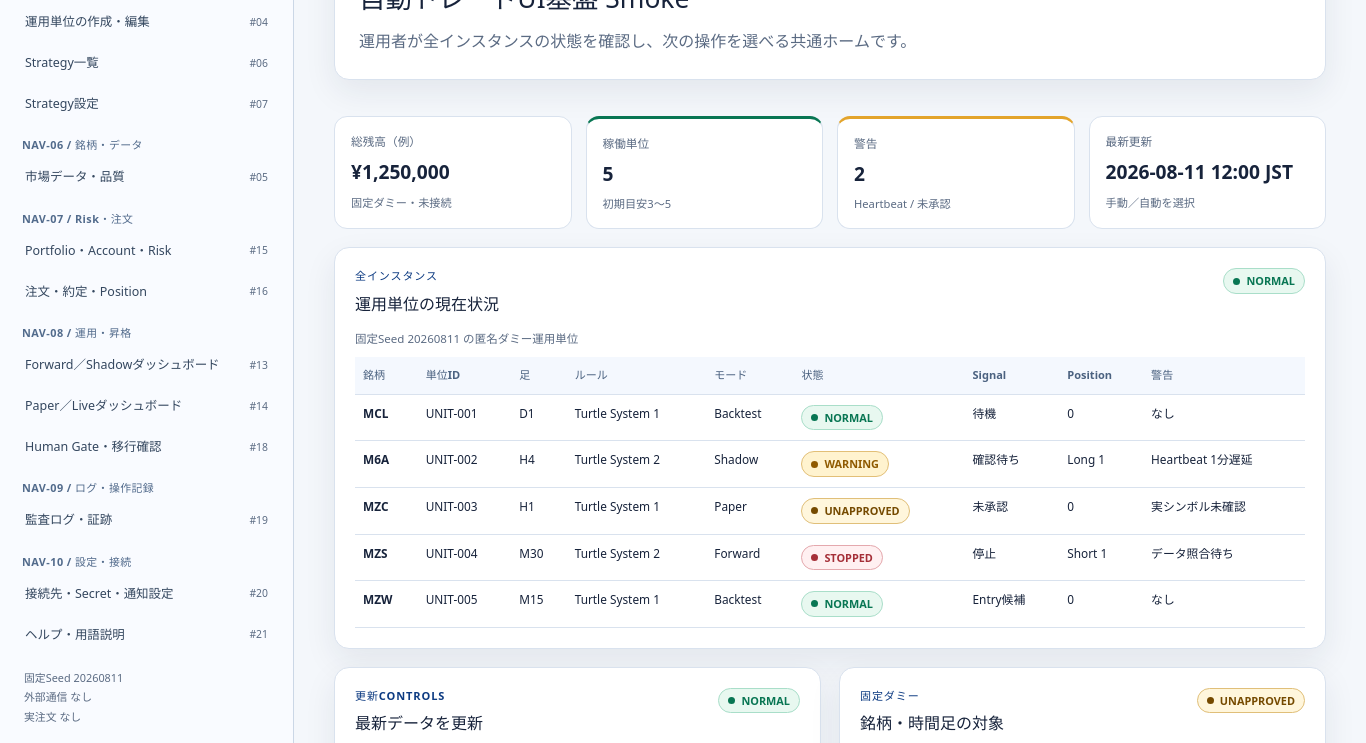
it: RQU-UI-07 common UI skeleton › renders all 21 navigation targets and changes the active screen
(page scrolled)
Click the button with test id "nav-SCREEN-21" at (75, 634), box [14,616,279,654]
(page scrolled)
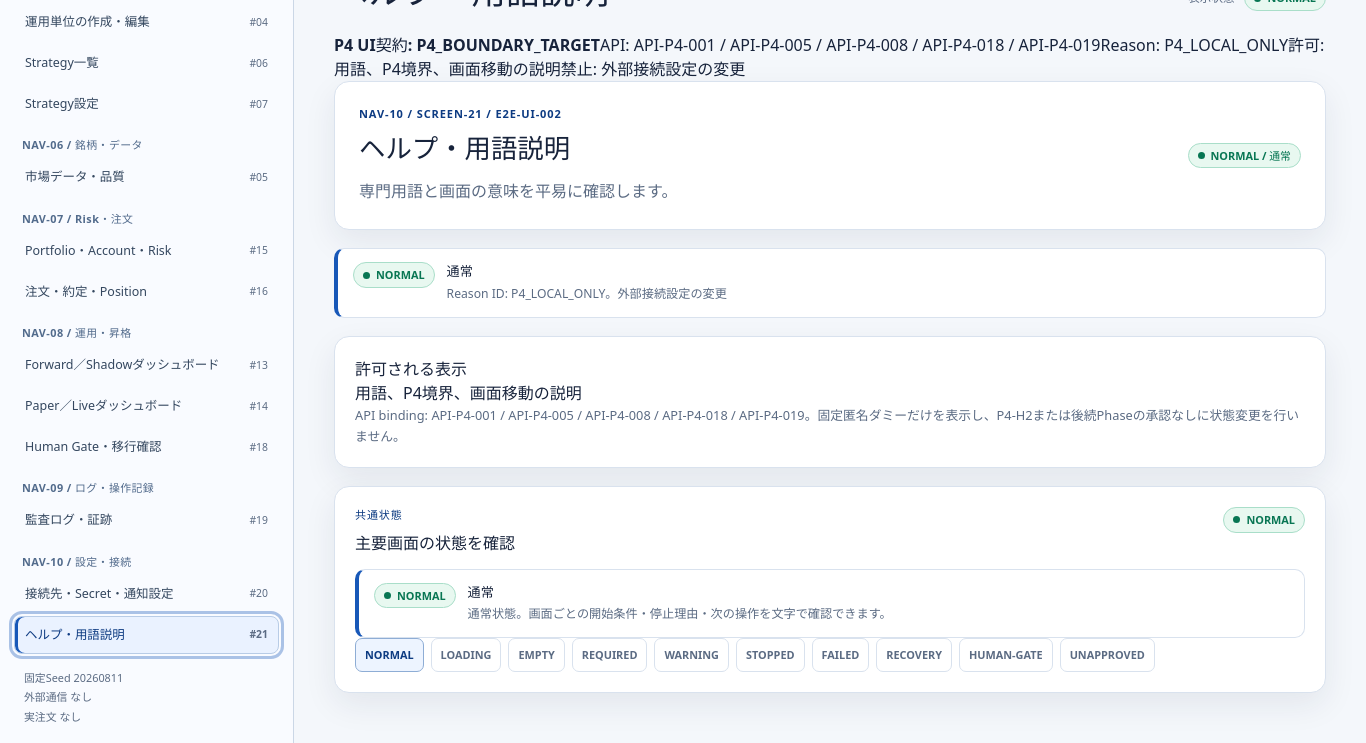
Result: the element with test id "screen-SCREEN-21" is shown at [334,81,1326,693]
